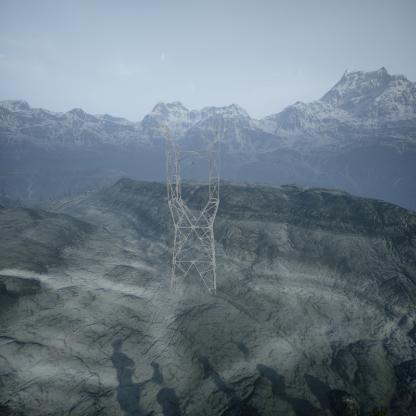tower: (157, 116, 230, 300)
